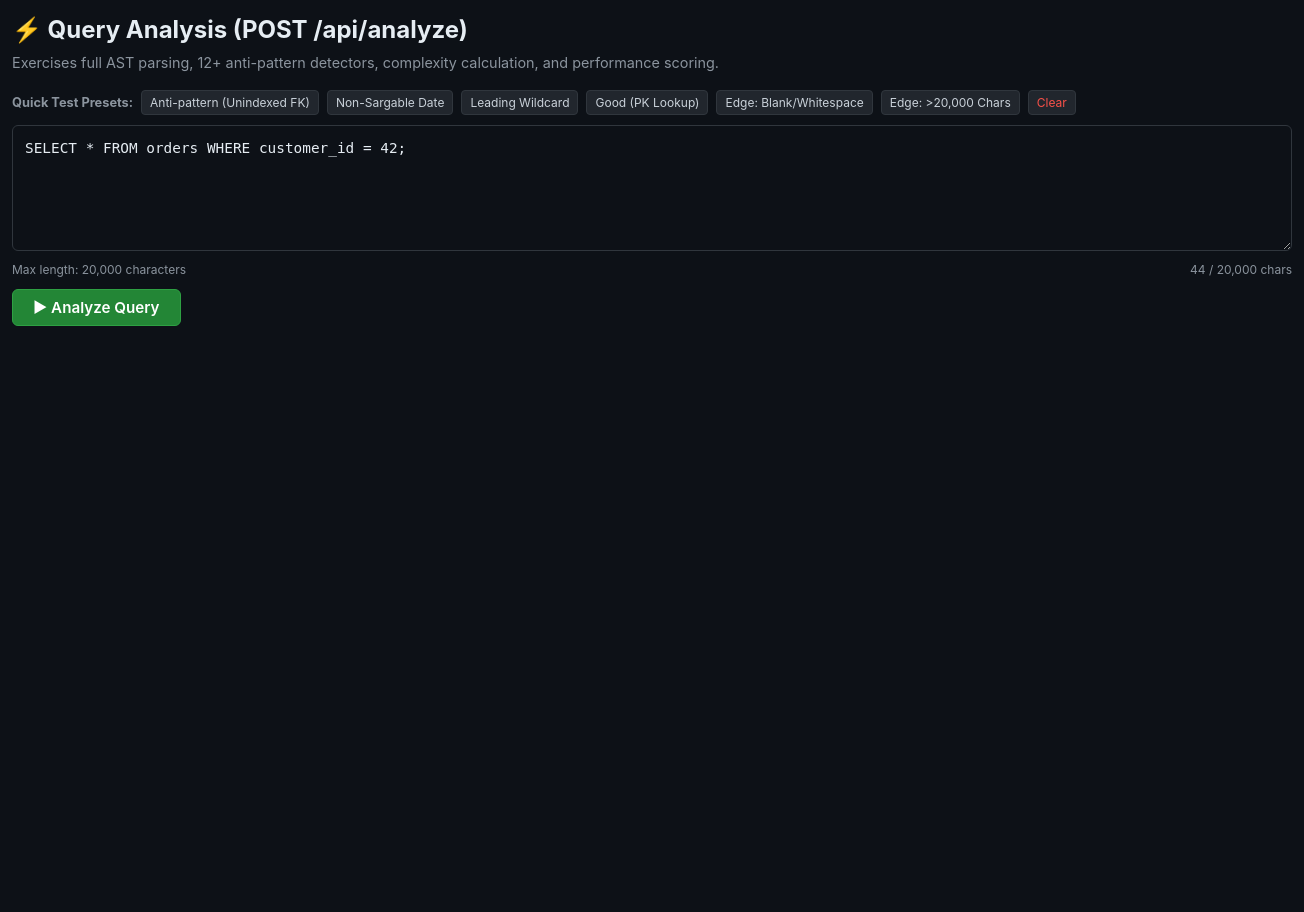
Test: AnalyzePage Component › renders analysis metrics, cards, and detected issues upon success
Click the button "▶ Analyze Query" at (96, 308), box x1=12 y1=289 x2=181 y2=326
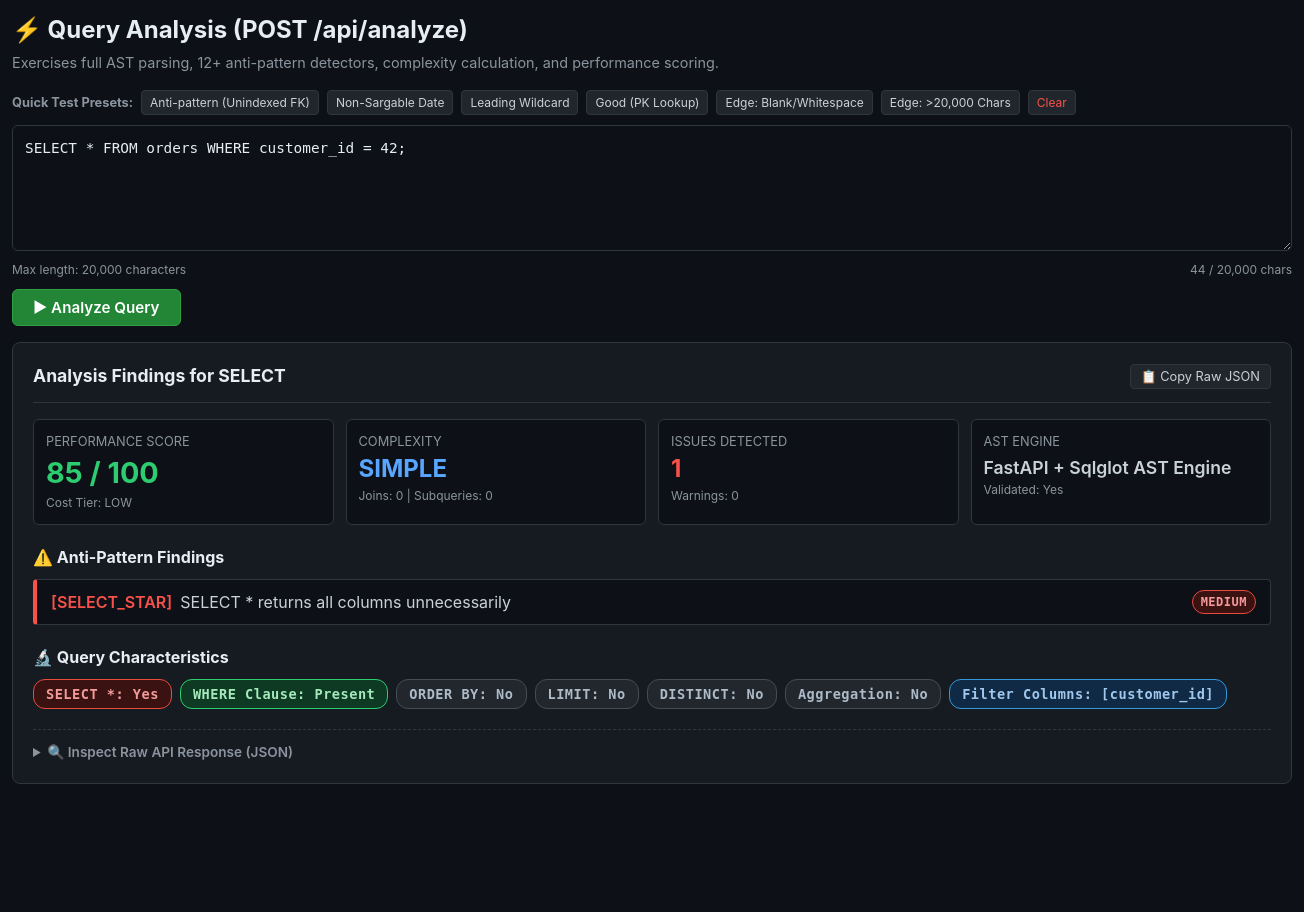
Expected: the text "85 / 100" is shown, x1=46 y1=455 x2=159 y2=490
Expected: the text "SIMPLE" is shown, x1=358 y1=454 x2=447 y2=483
Expected: the text "SELECT * returns all columns unnecessarily" is shown, x1=180 y1=592 x2=511 y2=612
